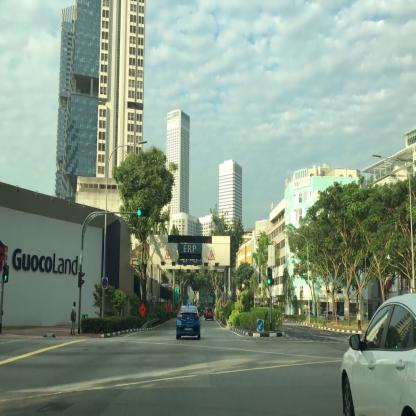green_traffic_light: (137, 209, 149, 216), (267, 267, 270, 285)
